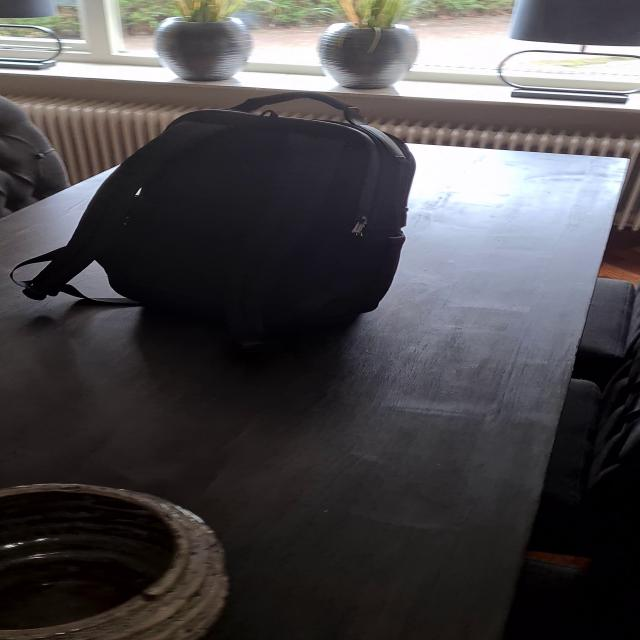backpack: (14, 84, 427, 358)
